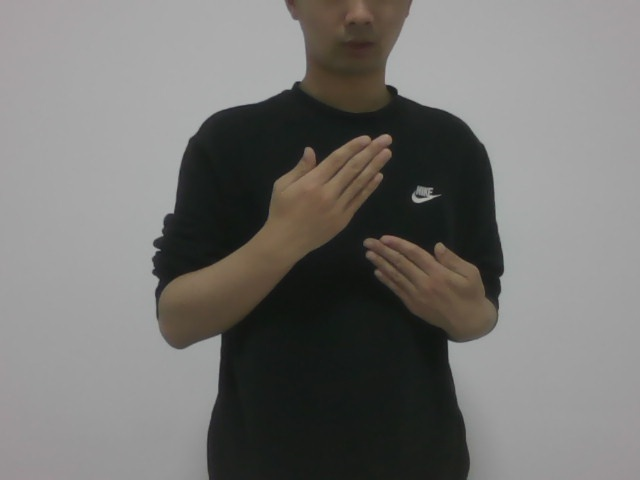tea: (260, 130, 487, 340)
